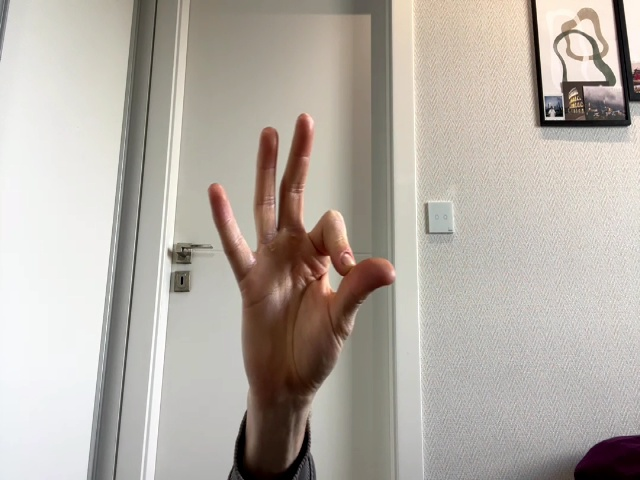S: (209, 114, 396, 394)
